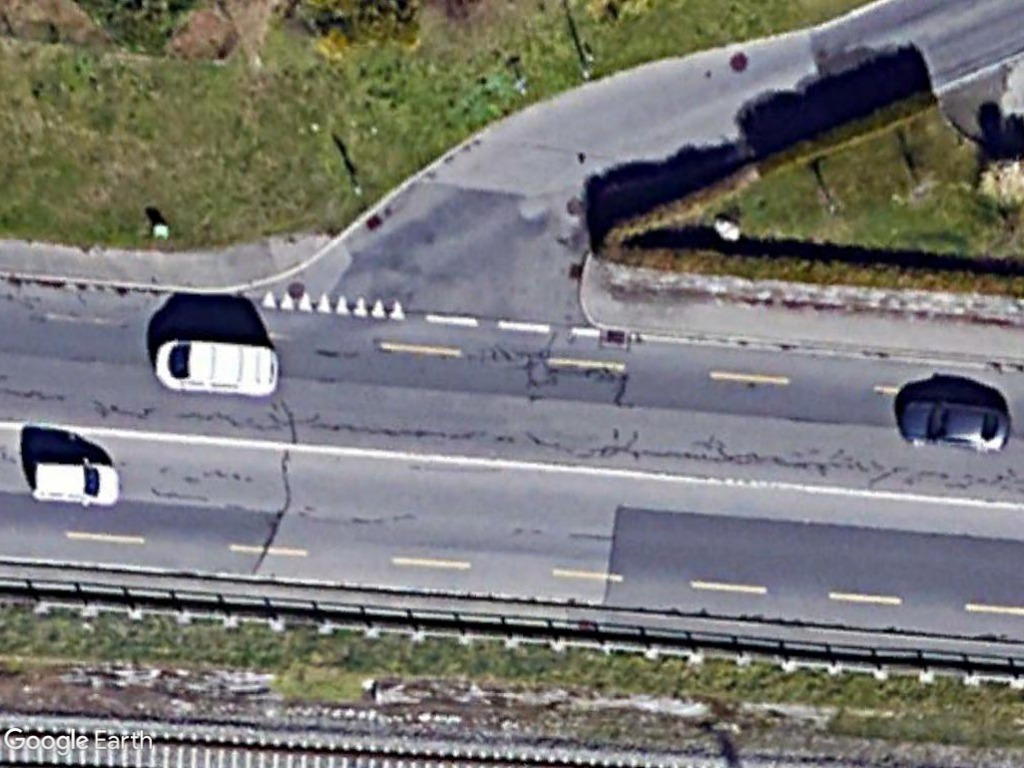car: (898, 397, 1014, 455), (28, 454, 124, 509)
van: (147, 334, 285, 400)
